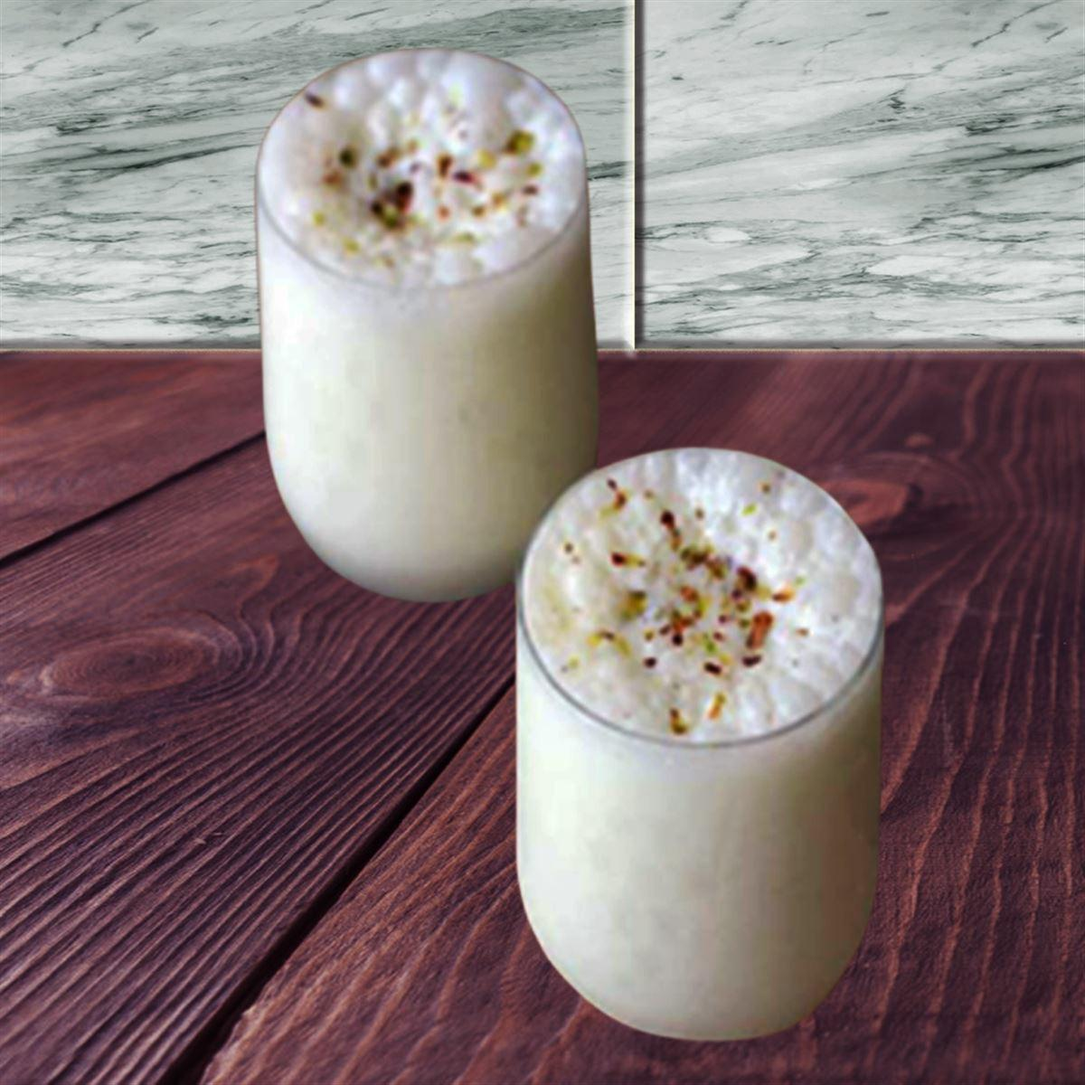Lassi: (515, 449, 887, 1038), (254, 53, 590, 597)
